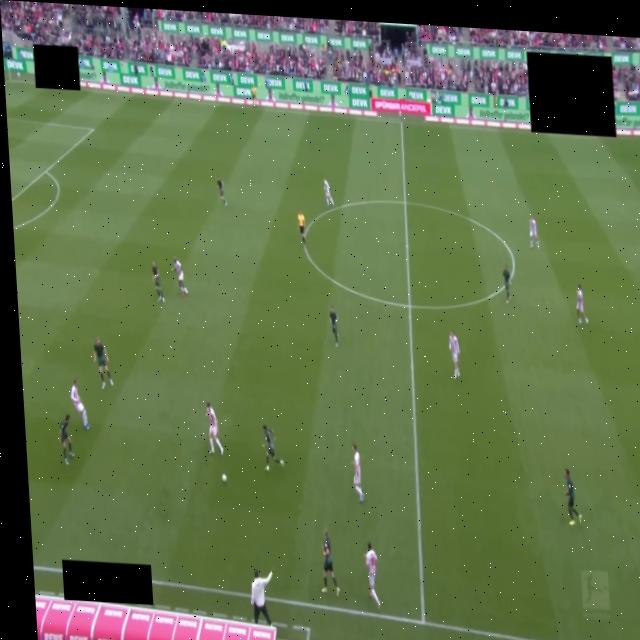ball: (222, 475, 226, 483)
player: (322, 529, 340, 595), (365, 542, 380, 609), (262, 425, 284, 470), (70, 380, 89, 430), (94, 339, 113, 388), (565, 469, 581, 525), (58, 414, 75, 466), (351, 444, 365, 504), (207, 403, 223, 455), (172, 257, 188, 297), (151, 261, 165, 302), (449, 332, 460, 378), (577, 285, 588, 324), (329, 307, 338, 346), (216, 175, 227, 206), (529, 217, 539, 249), (503, 264, 511, 303), (324, 180, 334, 207)
referee: (298, 211, 307, 247)
